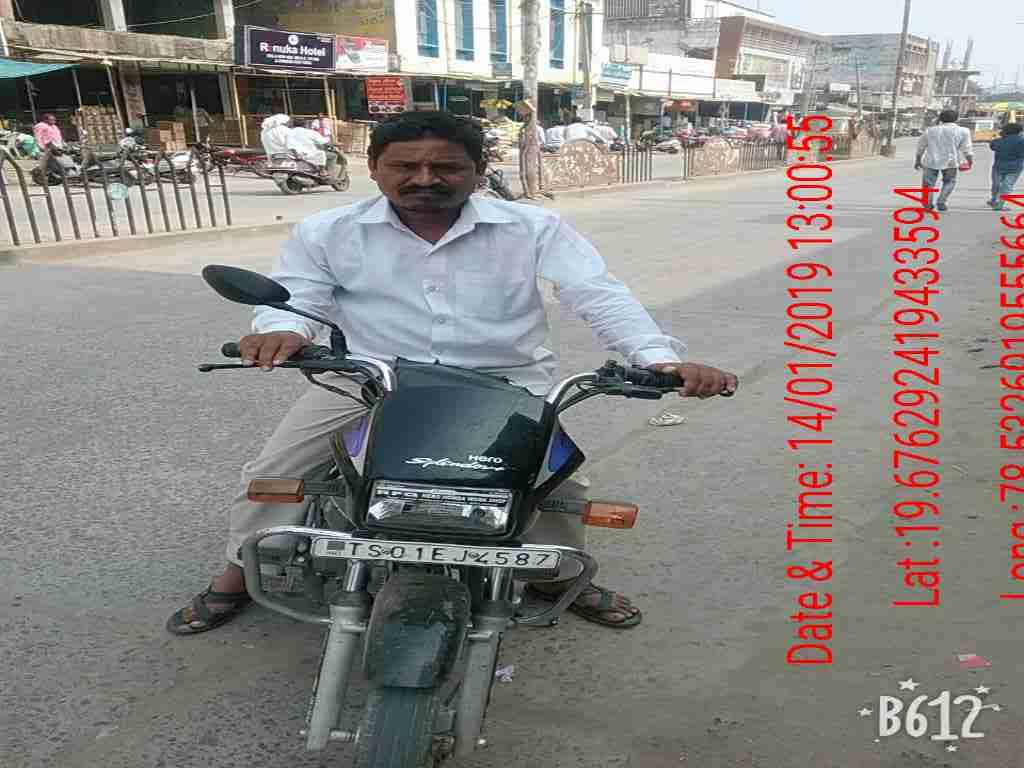plate: (310, 530, 567, 572)
